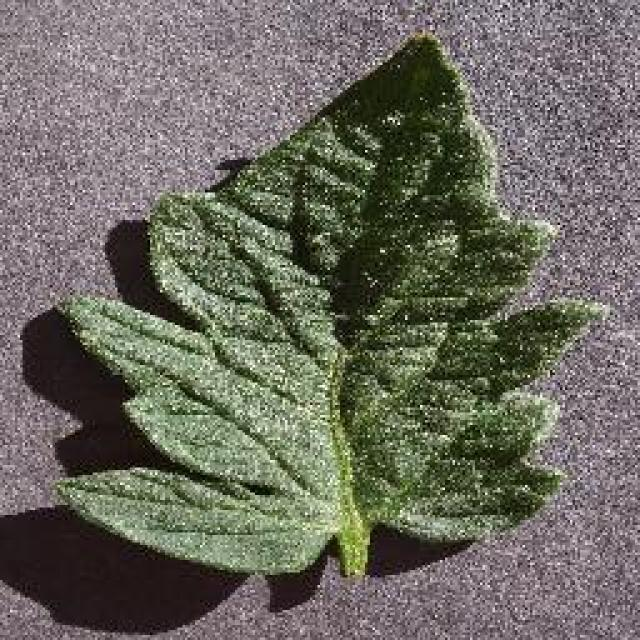Tomato_Healthy: (65, 37, 600, 569)
